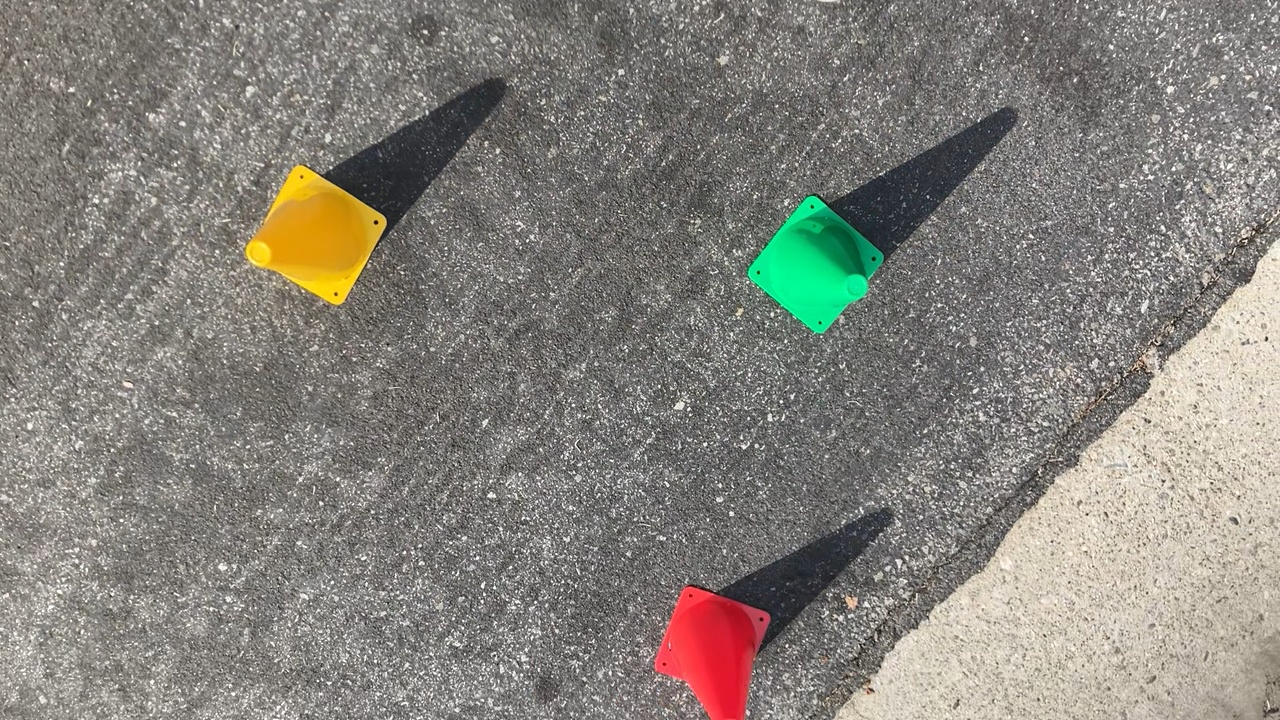green_cone: (742, 194, 893, 343)
red_cone: (651, 582, 777, 720)
yellow_cone: (237, 162, 396, 314)
